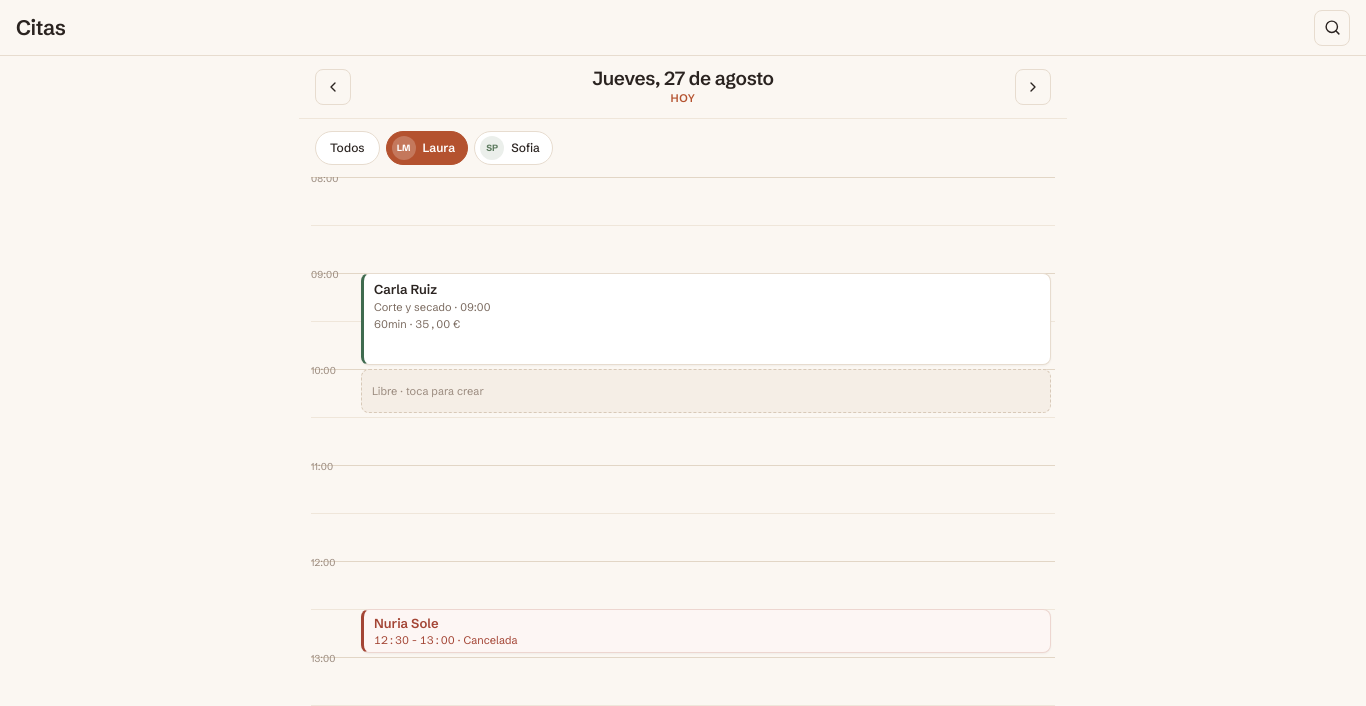
Scenario: CalendarPage › Escape repliega el buscador y devuelve todas las citas
Click the button "Todos". click: (347, 148)
box: [315,131,380,165]
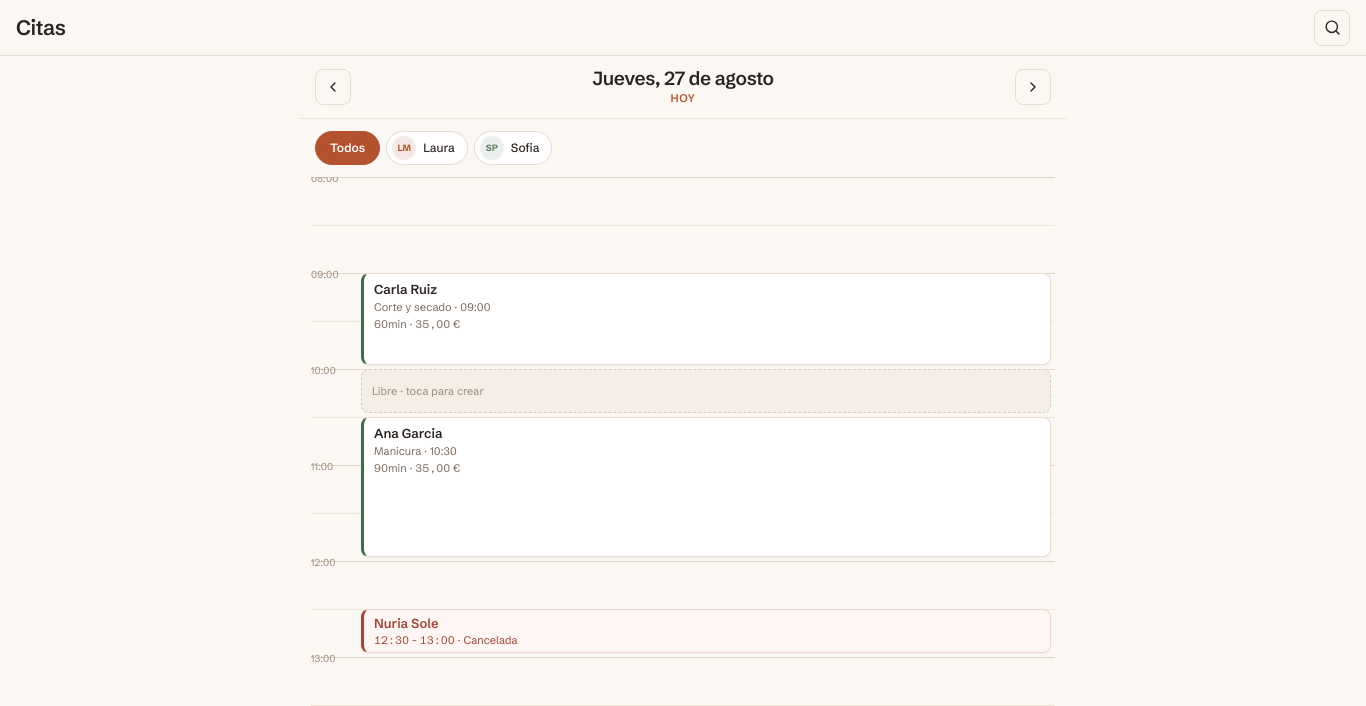
Click the button named "Buscar". click: (1332, 28)
box: [1314,10,1350,46]
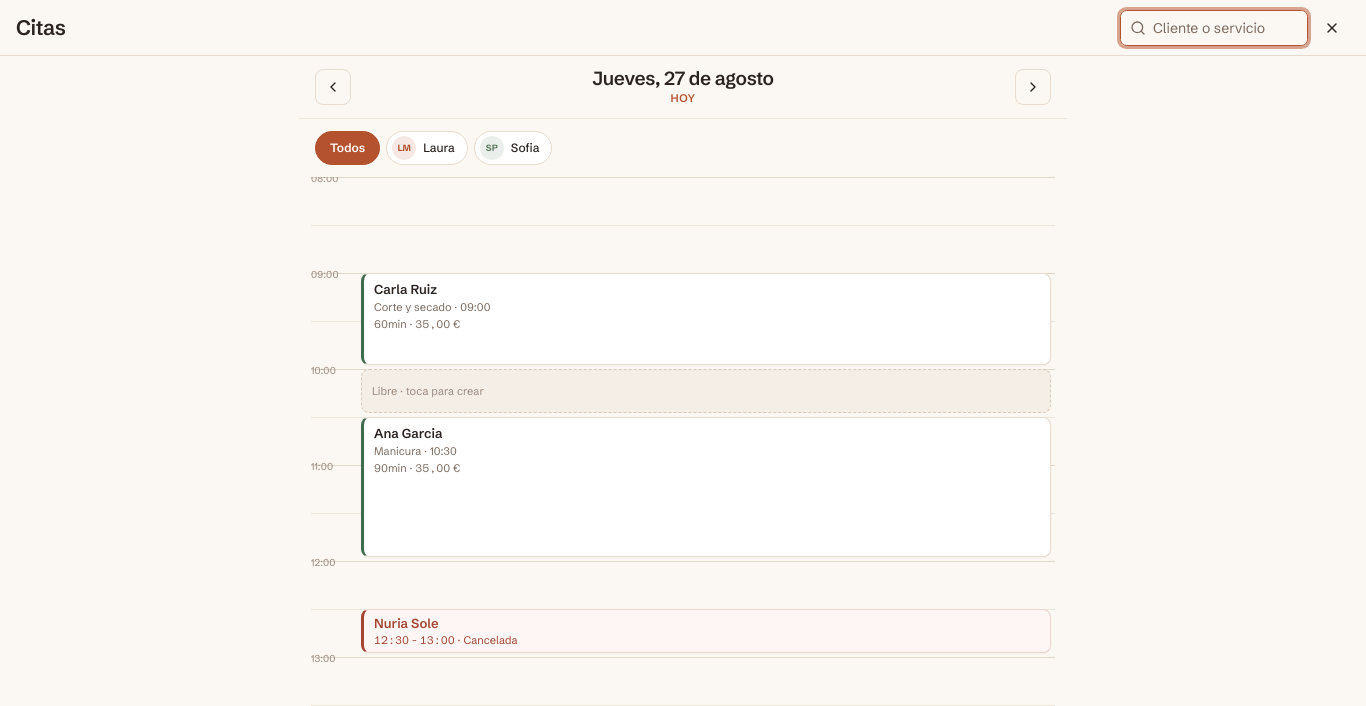
Type "carla" into the field named "Buscar citas". click: (1214, 28)
box: [1120,10,1308,46]
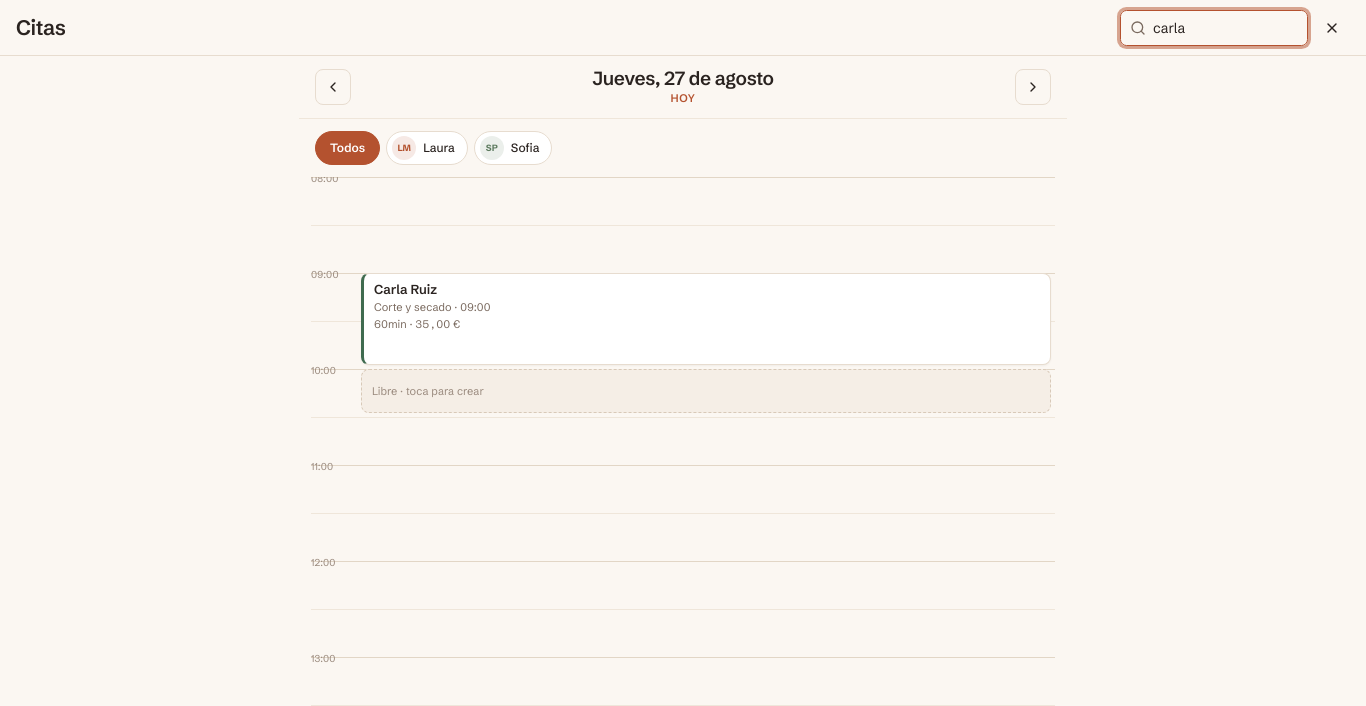
Expected: the number of buttons with test id "appointment-block" is 1, [361,273,1051,365]
Press Escape in the field named "Buscar citas", box [1120,10,1308,46]
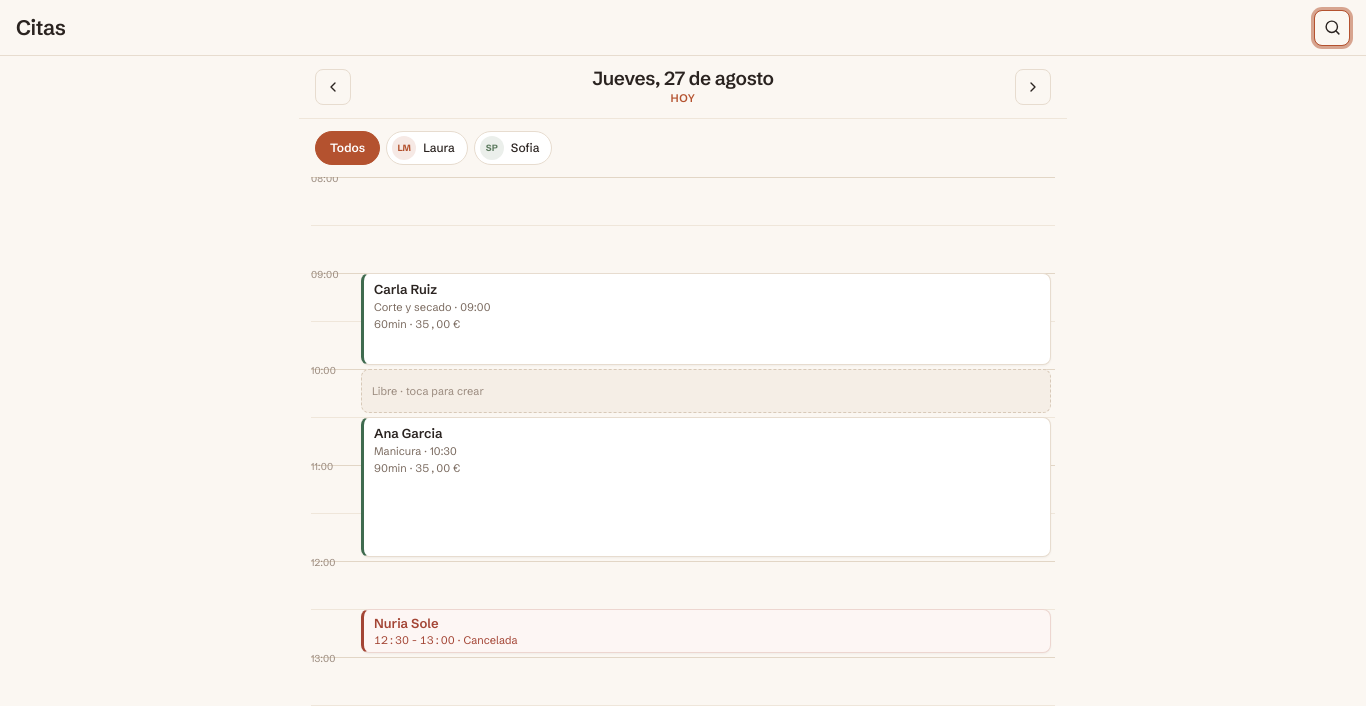
Expected: the button named "Buscar" is shown, [1314,10,1350,46]
Expected: the number of buttons with test id "appointment-block" is 3, [361,273,1051,365]; [361,417,1051,557]; [361,609,1051,653]
